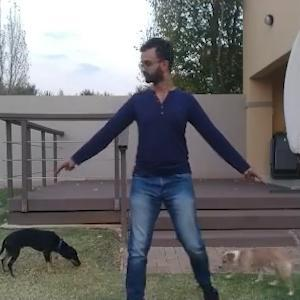land: (64, 22, 265, 297)
